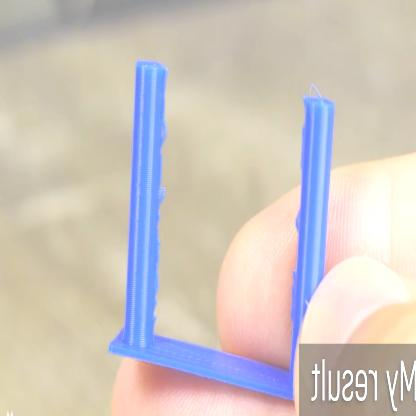fail: (159, 115, 170, 149), (159, 181, 169, 209)
